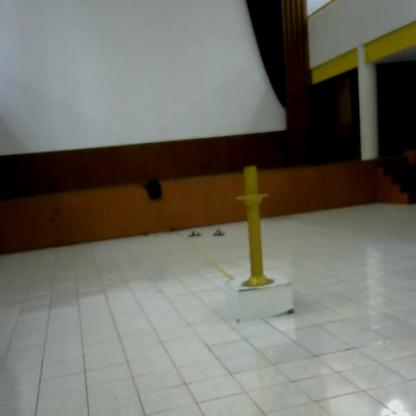pole: (233, 160, 278, 299)
